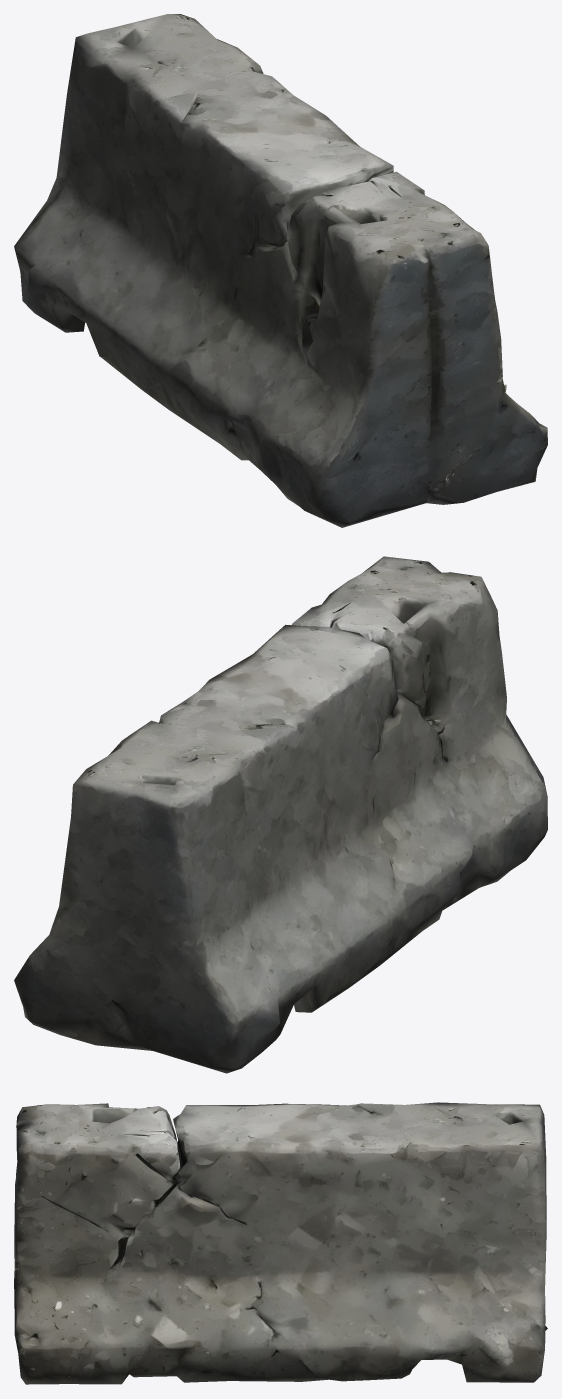
File: e_barrier.glb
3 renders of one model, top to bottom at view 1: azimuth 30°, elevation 25°; view 2: azimuth 150°, elevation 25°; view 3: azimuth 270°, elevation 25°, orthographic. The views are drawn at different scales.
Parts seen in each view (by area): view 1: tripo_node_12c1f07a-c9e7-4a18-bd86-ed2b9727b6dd; view 2: tripo_node_12c1f07a-c9e7-4a18-bd86-ed2b9727b6dd; view 3: tripo_node_12c1f07a-c9e7-4a18-bd86-ed2b9727b6dd.
Part boxes in pixels (x1,y1,x2,y2): tripo_node_12c1f07a-c9e7-4a18-bd86-ed2b9727b6dd: (14,14,547,527); tripo_node_12c1f07a-c9e7-4a18-bd86-ed2b9727b6dd: (14,556,547,1073); tripo_node_12c1f07a-c9e7-4a18-bd86-ed2b9727b6dd: (14,1102,547,1384).
Size of the model in its own units: 0.453 by 0.4565 by 1.
Materials: 1 (1 with a texture image).
